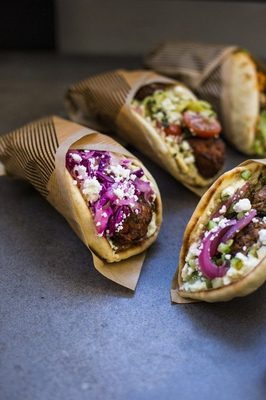soup: (137, 39, 266, 157)
